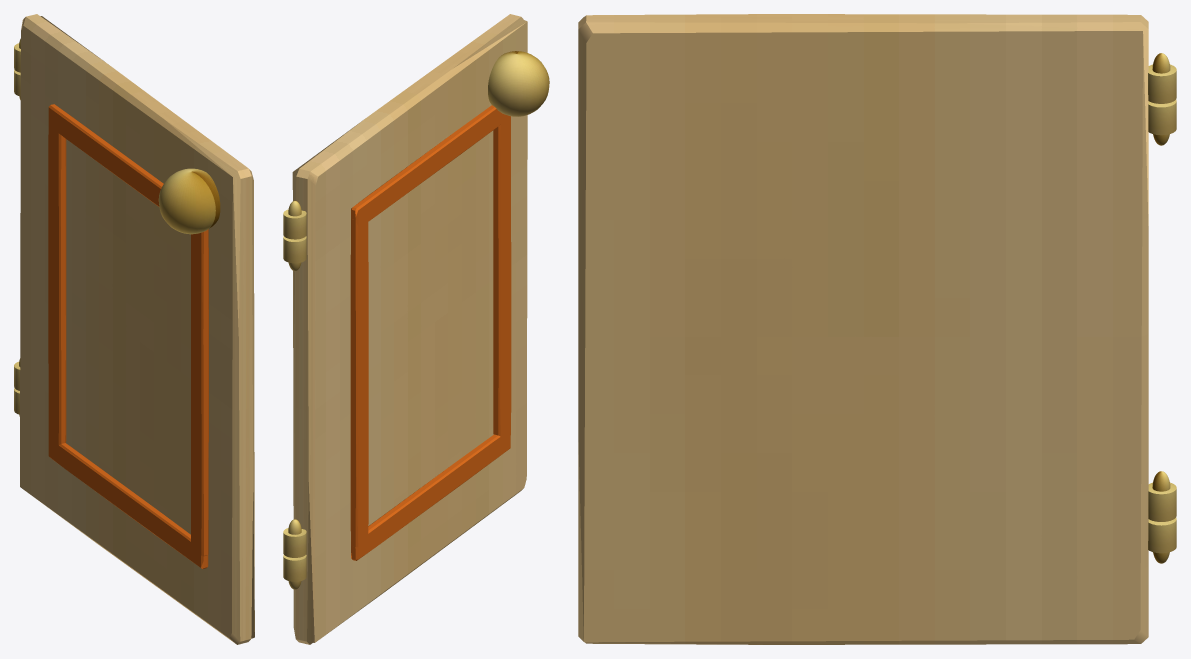
File: puertagab4.obj
3 views of the same model, side by side, from view 1: azimuth 30°, elevation 25°; view 2: azimuth 150°, elevation 25°; view 3: azimuth 270°, elevation 25° (orthographic). The views are drawn at different scales.
Parts seen in each view (by area): view 1: cuarto:cuarto:polySurface7193polySurface7523; view 2: cuarto:cuarto:polySurface7193polySurface7523; view 3: cuarto:cuarto:polySurface7193polySurface7523.
Part boxes in pixels (bbox=[...]): cuarto:cuarto:polySurface7193polySurface7523: bbox=[14, 14, 254, 644]; cuarto:cuarto:polySurface7193polySurface7523: bbox=[283, 14, 549, 644]; cuarto:cuarto:polySurface7193polySurface7523: bbox=[578, 14, 1176, 644].
Bounding box in the file's own units: 0.1729 × 1.17 × 1.02.
Materials: 3 (3 with a texture image).
